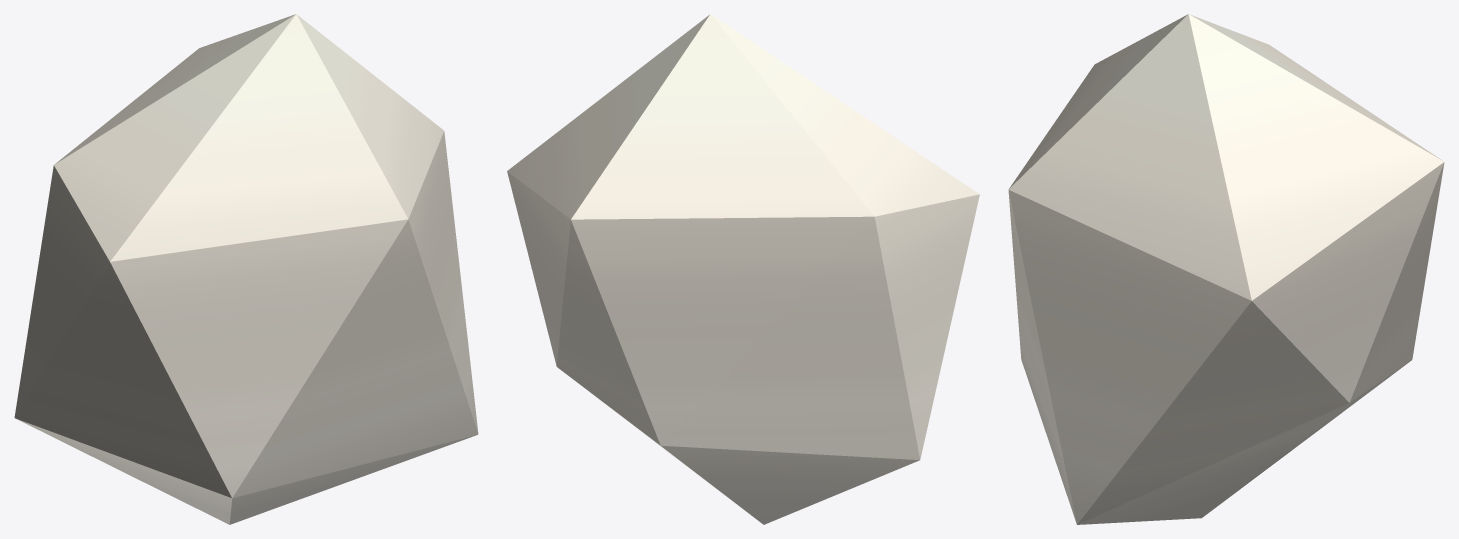
Rendered from Lixo.glb.
3 views of the same model, side by side, from view 1: azimuth 30°, elevation 25°; view 2: azimuth 150°, elevation 25°; view 3: azimuth 270°, elevation 25° (orthographic). The views are drawn at different scales.
Parts seen in each view (by area): view 1: Lixo_Malha; view 2: Lixo_Malha; view 3: Lixo_Malha.
Part boxes in pixels (x1,y1,x2,y2): Lixo_Malha: [14, 14, 478, 524]; Lixo_Malha: [507, 14, 979, 524]; Lixo_Malha: [1008, 14, 1444, 524].
Bounding box in the file's own units: 0.1425 × 0.1604 × 0.1183.
1 material, 1 textured.
